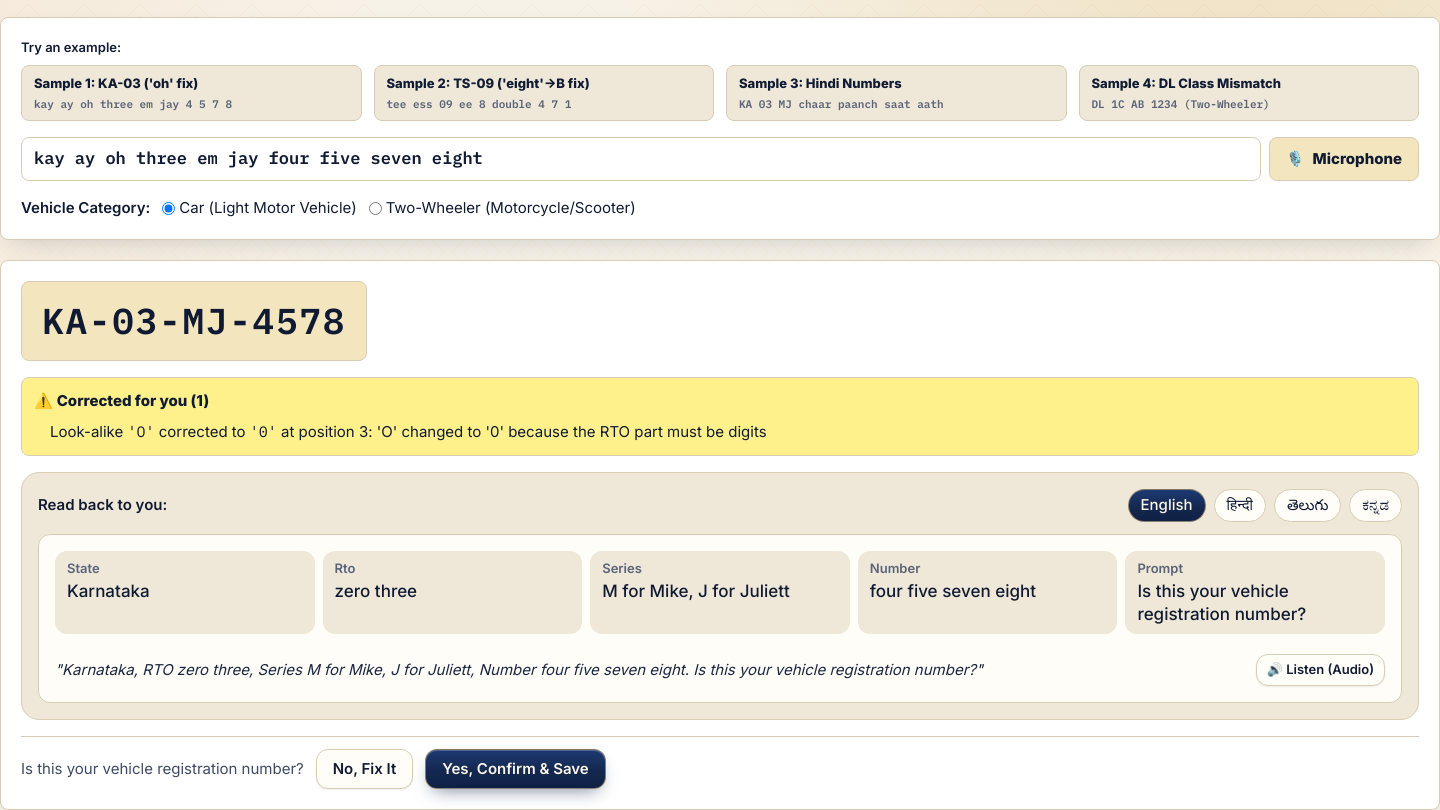
Voice & Typed Plate Entry UI Tests › confirms and saves vehicle to household on clicking Confirm
(page scrolled)
Click the button "Yes, Confirm & Save": click(516, 769) 425,749 -> 606,789
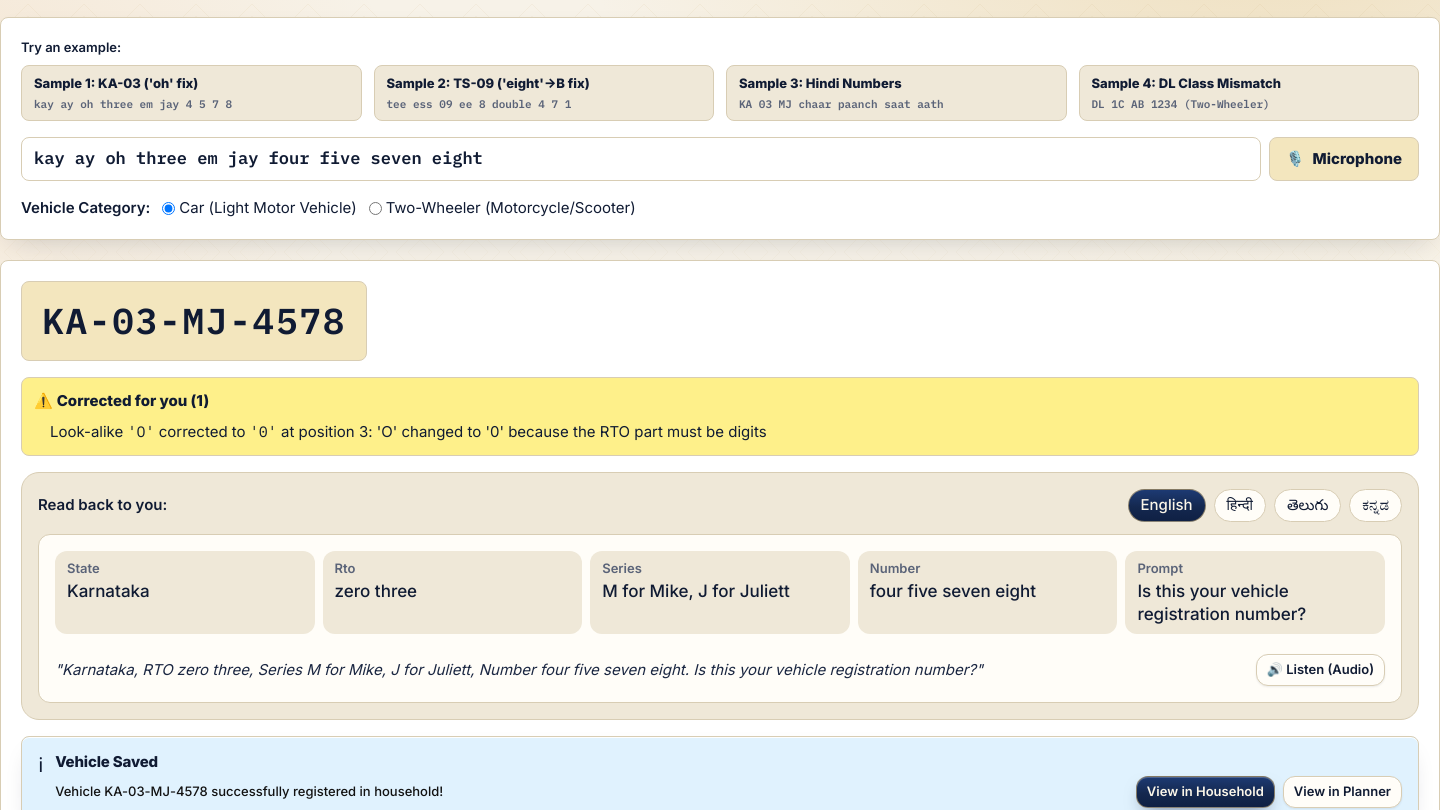
Check: the text "Vehicle KA-03-MJ-4578 successfully registered in household!" is shown, box 55,782 -> 443,802
Check: the button "View in Household" is shown, box 1136,776 -> 1275,808
